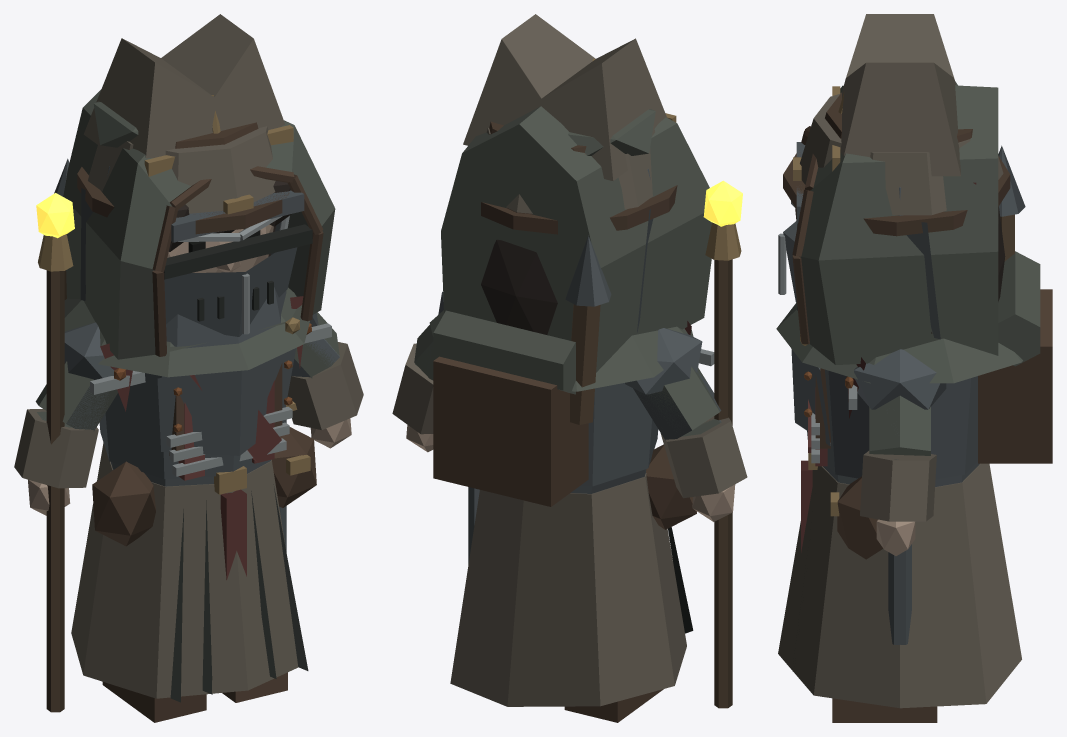
The model's file is npc_parts.glb.
3 views of the same model, side by side, from view 1: azimuth 30°, elevation 25°; view 2: azimuth 150°, elevation 25°; view 3: azimuth 270°, elevation 25° (orthographic).
Parts seen in each view (by area): view 1: NPC_SKIRT_00_Priest, NPC_HEADGEAR_03_PilgrimHood, NPC_HEADGEAR_02_CinderClericMitre, NPC_TORSO_01_Armor, NPC_HEADGEAR_00_AshKnightClosed, NPC_ACCESSORY_HAND_00_PriestStaff, NPC_ACCESSORY_WAIST_00_MerchantPouches, NPC_HEADGEAR_05_WayfarerCap, NPC_FOREARM_R_02_Priest, NPC_FOREARM_L_02_Priest, NPC_UPPER_ARM_R_01_Armor, NPC_HEADGEAR_01_WardenOpenHelm (+13 smaller); view 2: NPC_SKIRT_00_Priest, NPC_HEADGEAR_03_PilgrimHood, NPC_ACCESSORY_BACK_00_TravelerPack, NPC_HEADGEAR_02_CinderClericMitre, NPC_ACCESSORY_HAND_00_PriestStaff, NPC_TORSO_01_Armor, NPC_HAIR_01_Long, NPC_HEADGEAR_05_WayfarerCap, NPC_ACCESSORY_BACK_01_RaiderSpikes, NPC_FOREARM_R_02_Priest, NPC_UPPER_ARM_R_01_Armor, NPC_ACCESSORY_WAIST_00_MerchantPouches (+5 smaller); view 3: NPC_SKIRT_00_Priest, NPC_HEADGEAR_03_PilgrimHood, NPC_HEADGEAR_02_CinderClericMitre, NPC_ACCESSORY_BACK_00_TravelerPack, NPC_TORSO_01_Armor, NPC_FOREARM_L_02_Priest, NPC_UPPER_ARM_L_01_Armor, NPC_HEADGEAR_05_WayfarerCap, NPC_UPPER_ARM_L_00_Tunic, NPC_ACCESSORY_WAIST_00_MerchantPouches, NPC_ACCESSORY_WAIST_01_KnightSword, NPC_FOOT_L_00_Boot (+5 smaller).
Part boxes in pixels (x1,y1,x2,y2): NPC_SKIRT_00_Priest: [71, 442, 308, 702]; NPC_HEADGEAR_03_PilgrimHood: [63, 89, 335, 377]; NPC_HEADGEAR_02_CinderClericMitre: [83, 14, 293, 213]; NPC_TORSO_01_Armor: [99, 348, 295, 478]; NPC_HEADGEAR_00_AshKnightClosed: [107, 166, 312, 348]; NPC_ACCESSORY_HAND_00_PriestStaff: [36, 193, 74, 712]; NPC_ACCESSORY_WAIST_00_MerchantPouches: [92, 427, 316, 546]; NPC_HEADGEAR_05_WayfarerCap: [77, 101, 289, 234]; NPC_FOREARM_R_02_Priest: [14, 409, 98, 488]; NPC_FOREARM_L_02_Priest: [287, 342, 363, 429]; NPC_UPPER_ARM_R_01_Armor: [64, 322, 145, 430]; NPC_HEADGEAR_01_WardenOpenHelm: [80, 188, 304, 300]; NPC_SKIRT_00_Priest: [450, 473, 693, 706]; NPC_HEADGEAR_03_PilgrimHood: [429, 106, 711, 391]; NPC_ACCESSORY_BACK_00_TravelerPack: [433, 310, 588, 506]; NPC_HEADGEAR_02_CinderClericMitre: [463, 14, 676, 213]; NPC_ACCESSORY_HAND_00_PriestStaff: [703, 180, 742, 708]; NPC_TORSO_01_Armor: [580, 383, 658, 486]; NPC_HAIR_01_Long: [481, 239, 557, 334]; NPC_HEADGEAR_05_WayfarerCap: [481, 109, 677, 234]; NPC_ACCESSORY_BACK_01_RaiderSpikes: [565, 235, 611, 424]; NPC_FOREARM_R_02_Priest: [660, 416, 747, 498]; NPC_UPPER_ARM_R_01_Armor: [625, 328, 721, 440]; NPC_ACCESSORY_WAIST_00_MerchantPouches: [646, 444, 696, 529]; NPC_SKIRT_00_Priest: [778, 460, 1021, 708]; NPC_HEADGEAR_03_PilgrimHood: [776, 85, 1022, 383]; NPC_HEADGEAR_02_CinderClericMitre: [800, 14, 1003, 215]; NPC_ACCESSORY_BACK_00_TravelerPack: [815, 251, 1052, 463]; NPC_TORSO_01_Armor: [791, 349, 977, 479]; NPC_FOREARM_L_02_Priest: [860, 451, 936, 521]; NPC_UPPER_ARM_L_01_Armor: [845, 349, 946, 433]; NPC_HEADGEAR_05_WayfarerCap: [783, 81, 1010, 236]; NPC_UPPER_ARM_L_00_Tunic: [869, 395, 930, 455]; NPC_ACCESSORY_WAIST_00_MerchantPouches: [830, 476, 883, 559]; NPC_ACCESSORY_WAIST_01_KnightSword: [888, 544, 911, 644]; NPC_FOOT_L_00_Boot: [832, 698, 937, 722].
Size of the model in its own units: 1.18 by 2.12 by 0.815.
